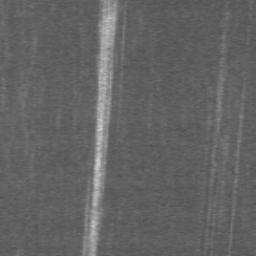Bright scratch: (83, 0, 118, 256), (229, 82, 245, 249), (210, 37, 224, 186)
